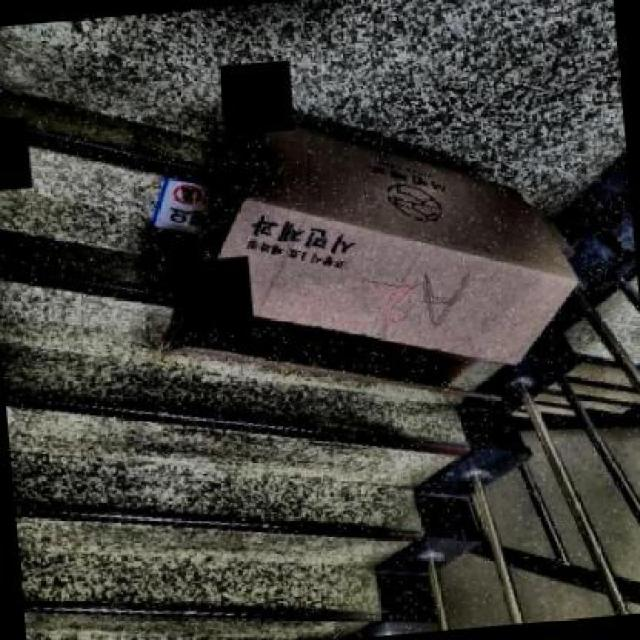box: (127, 77, 607, 437)
